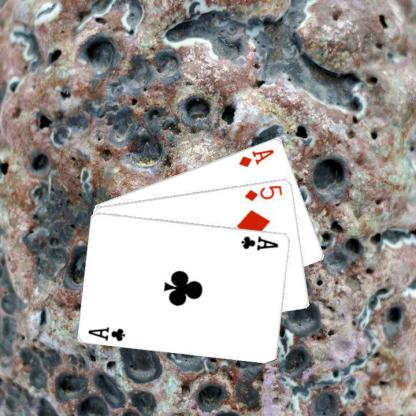5D: (242, 182, 284, 202)
AC: (239, 233, 280, 251), (86, 324, 127, 342)
AD: (236, 146, 276, 168)
